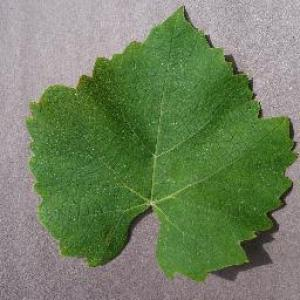Folha: (24, 3, 298, 282)
